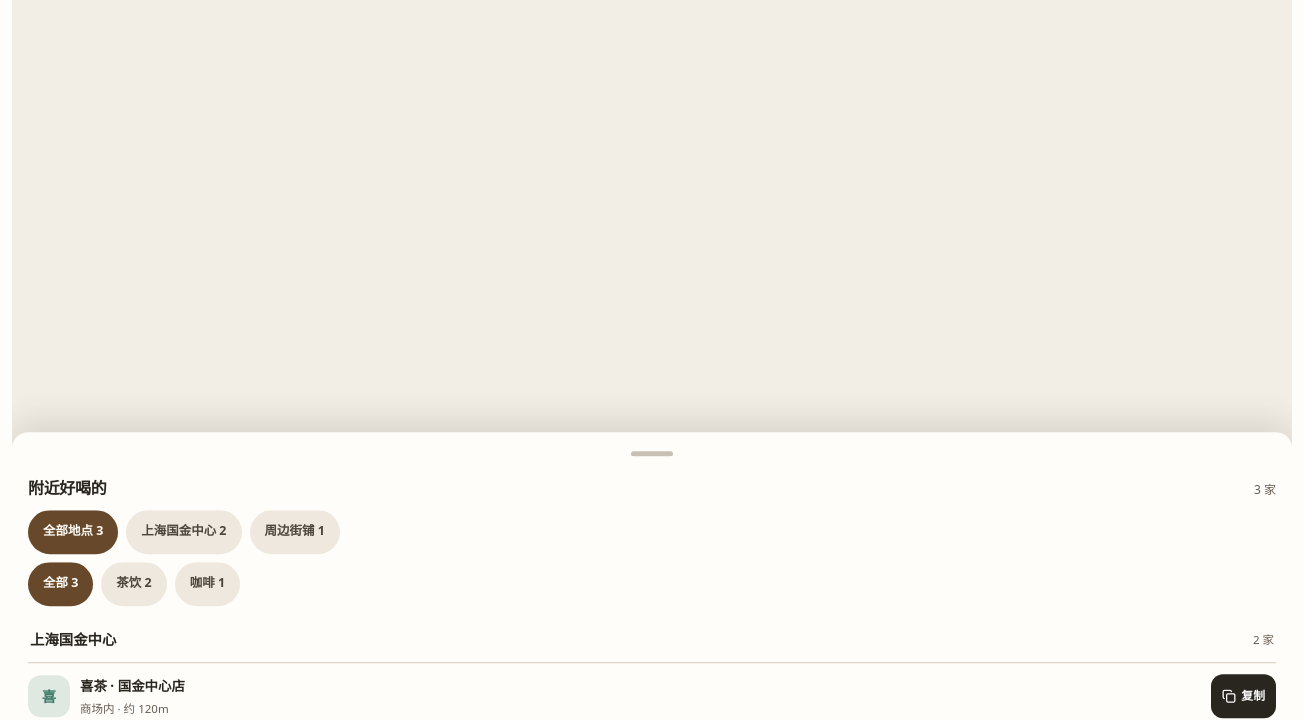
Test: StoreDrawer › updates each filter row from the other filter selection
What coordinates should you click on to do the following:
click the tab "上海国金中心 2"
I would click on:
 (184, 532)
Its box is x1=126 y1=510 x2=242 y2=554.
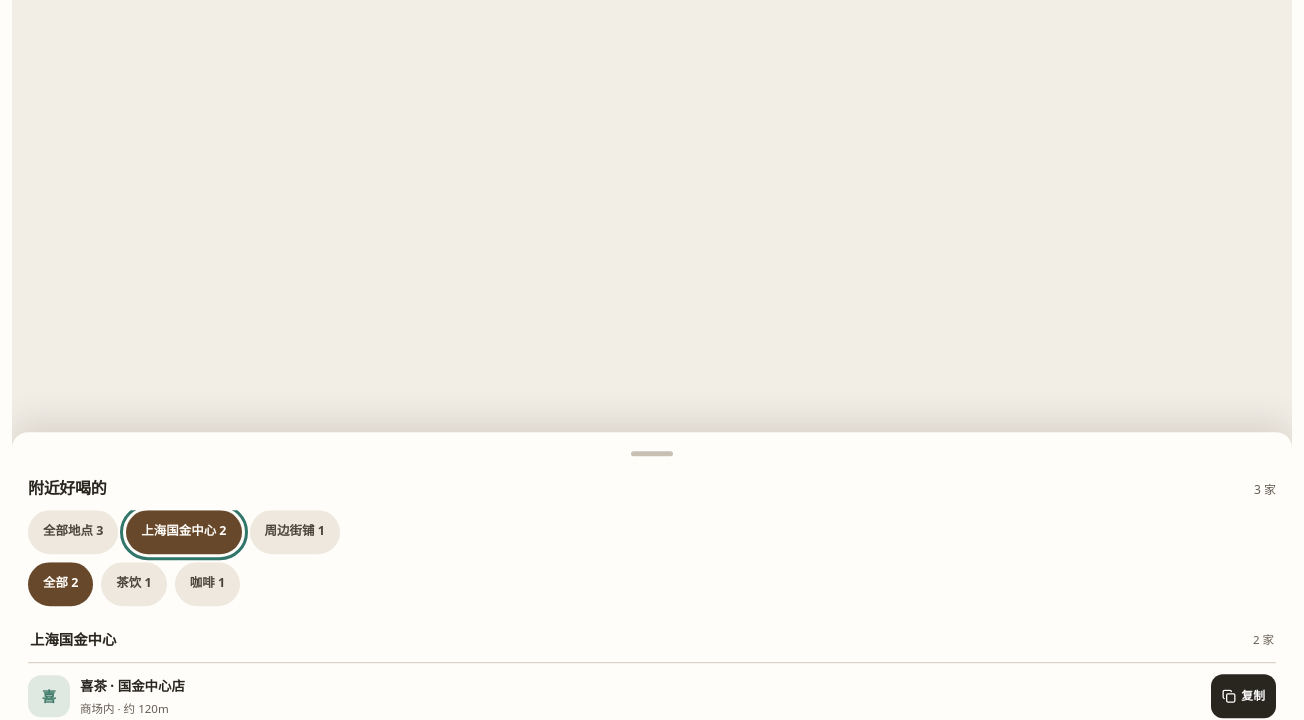
Expected: the tab "全部 2" is shown, x1=28 y1=562 x2=93 y2=606
Expected: the tab "茶饮 1" is shown, x1=101 y1=562 x2=167 y2=606
What coordinates should you click on to do the following:
click the tab "咖啡 1"
I would click on:
 (207, 584)
Its box is x1=175 y1=562 x2=240 y2=606.
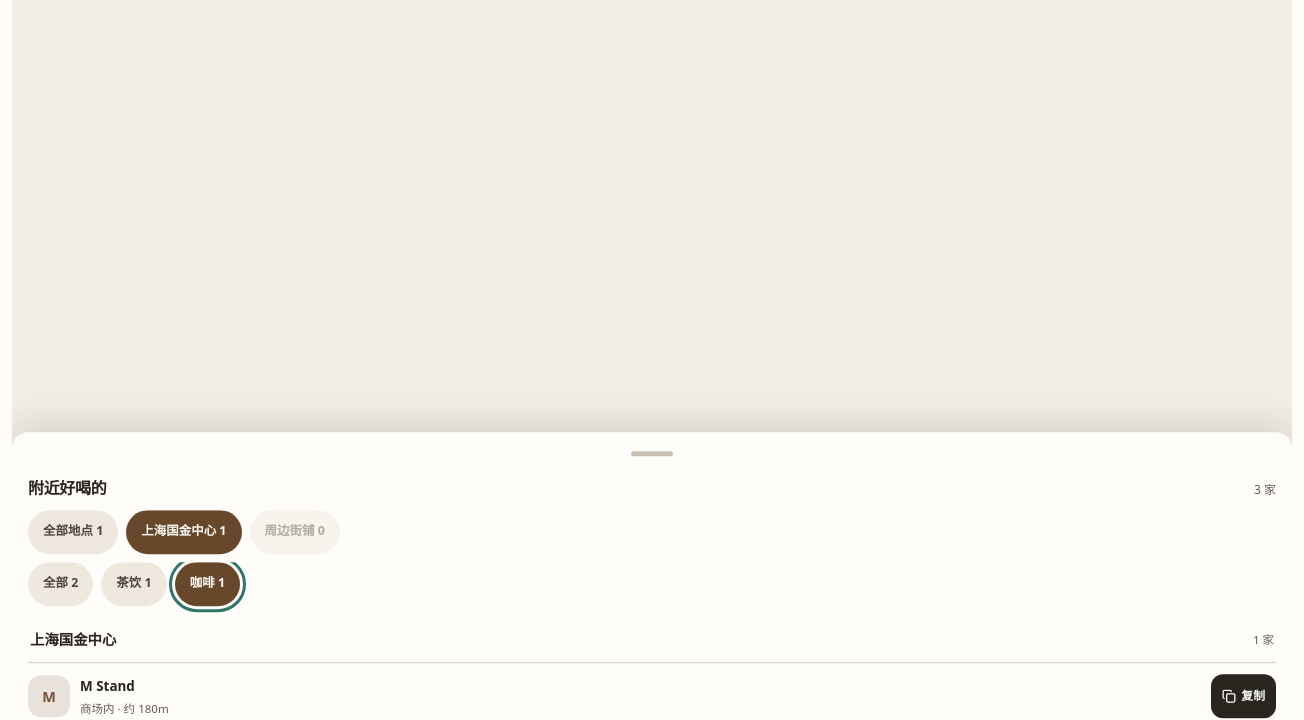
Expected: the tab "全部地点 1" is shown, x1=28 y1=510 x2=118 y2=554
Expected: the tab "上海国金中心 1" is shown, x1=126 y1=510 x2=242 y2=554
Expected: the tab "周边街铺 0" is disabled, x1=250 y1=510 x2=340 y2=554
